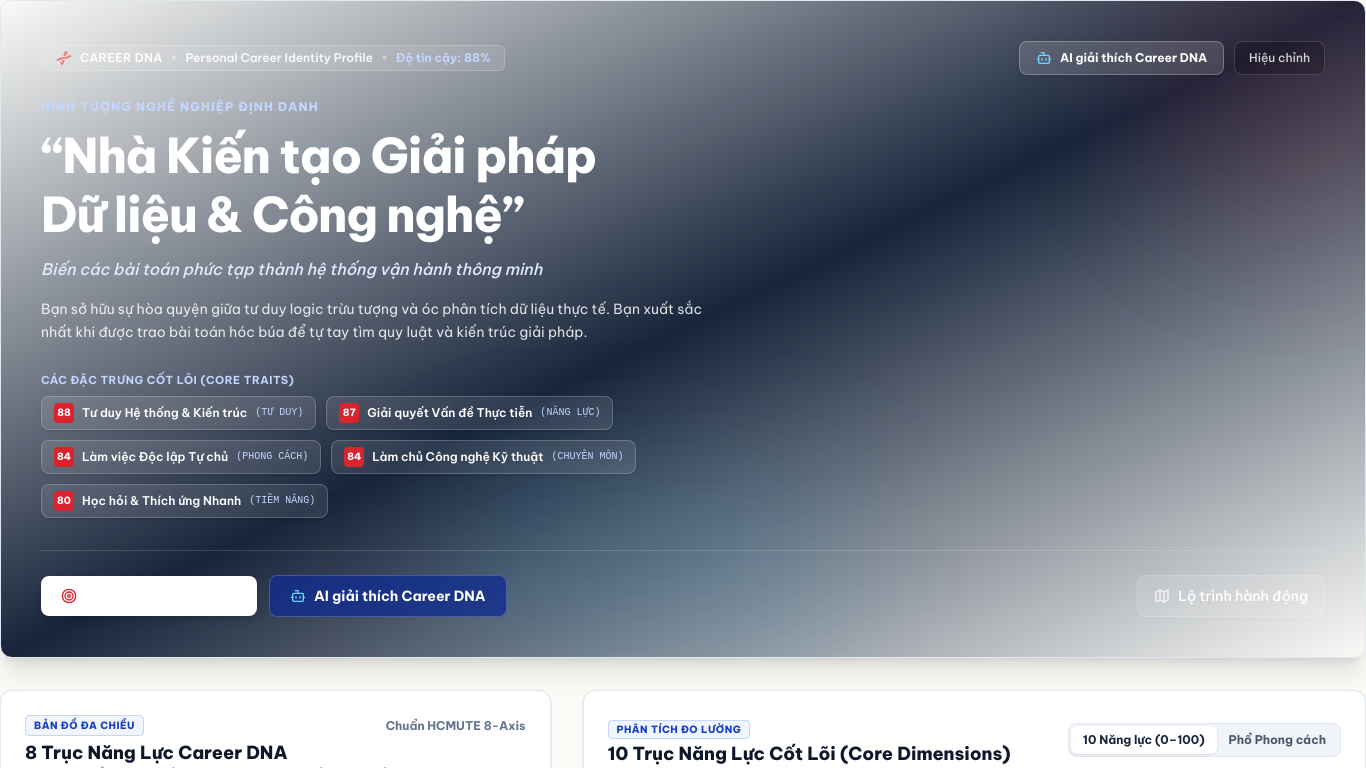
MODULE PROMPT 03 — CAREER DNA (Personal Career Identity Profile) › 2. VISUALS: renders Radar chart, Trait clusters, and switches between Dimensions & Spectrum
This screenshot has width=1366, height=768.
Expected: the heading "8 Trục Năng Lực Career DNA" is shown, [25,741,288,764]
Switch between 10 Core Dimensions and Style Spectrum
Step 1. Click the button "Phổ Phong cách" → (1277, 740), box [1217,726,1338,754]
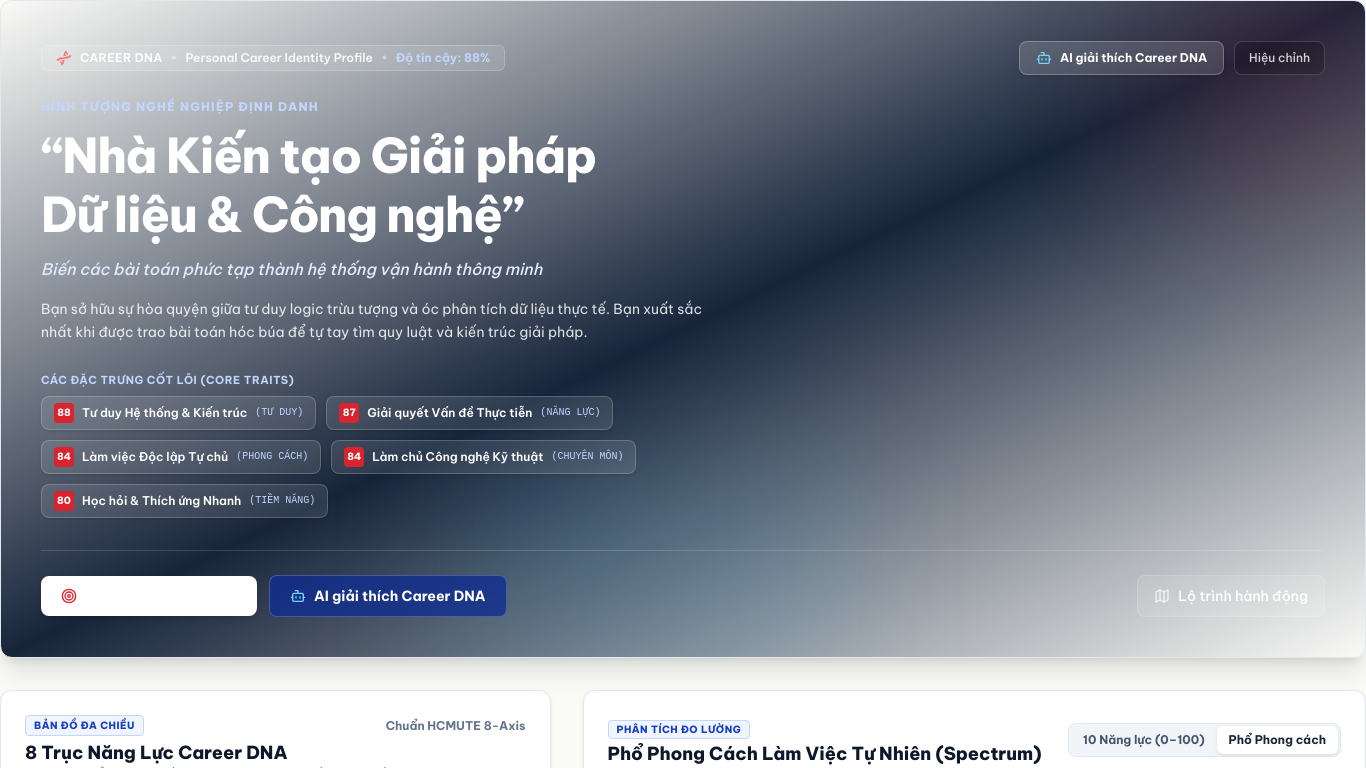
Now the heading "Phổ Phong Cách Làm Việc Tự Nhiên (Spectrum)" is shown, box [608,743,1041,765]
Switch back to Dimensions
Step 2. Click the button "10 Năng lực (0–100)" → (1144, 740), box [1071,726,1217,754]
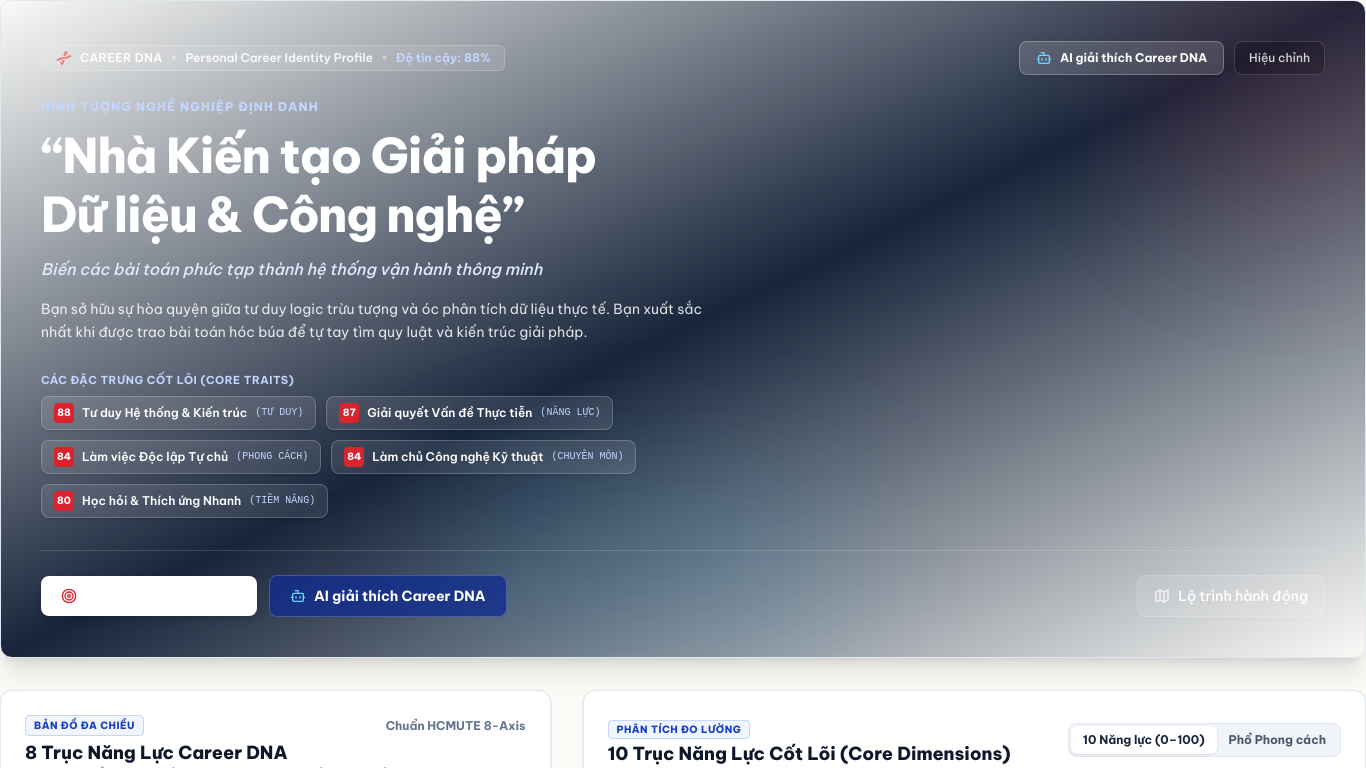
Now the heading "10 Trục Năng Lực Cốt Lõi (Core Dimensions)" is shown, box [608,743,1010,765]
